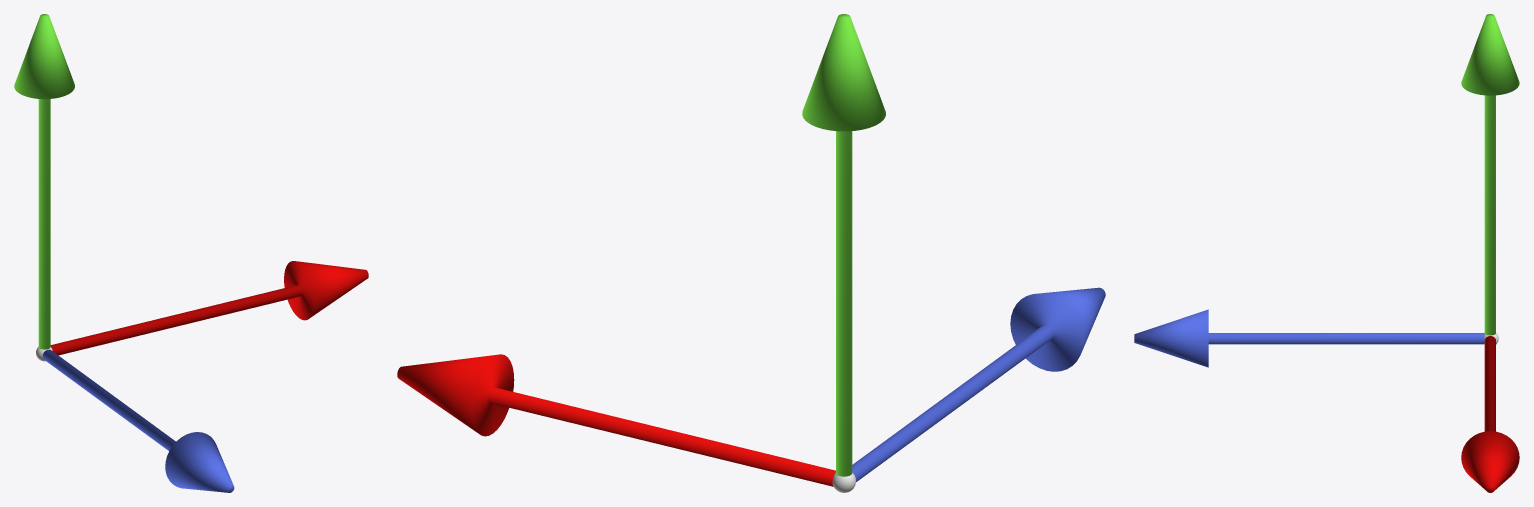
File: xyzArrows.glb
The picture shows the model from 3 angles, left to right: view 1: azimuth 30°, elevation 25°; view 2: azimuth 150°, elevation 25°; view 3: azimuth 270°, elevation 25°; orthographic projection. The views are drawn at different scales.
Visible parts, largest first — view 1: Cylinder.001, Cylinder.002, Cylinder; view 2: Cylinder.001, Cylinder.002, Cylinder; view 3: Cylinder, Cylinder.001, Cylinder.002.
Boxes of the visible parts, x1,y1,x2,y2 form: Cylinder.001: [14, 14, 74, 349]; Cylinder.002: [50, 261, 368, 355]; Cylinder: [42, 349, 234, 492]; Cylinder.001: [802, 14, 885, 476]; Cylinder.002: [397, 354, 835, 486]; Cylinder: [852, 287, 1105, 481]; Cylinder: [1134, 309, 1484, 367]; Cylinder.001: [1461, 14, 1519, 335]; Cylinder.002: [1461, 336, 1519, 492].
Bounding box in the file's own units: 1.08 × 1.08 × 1.08.
